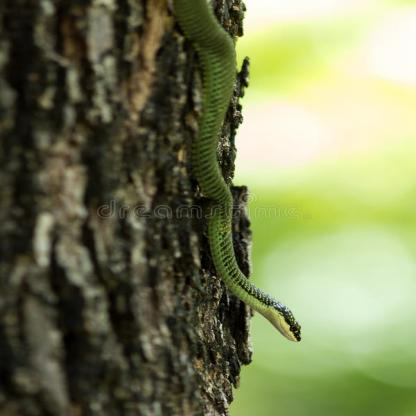Snake: (154, 0, 304, 348)
